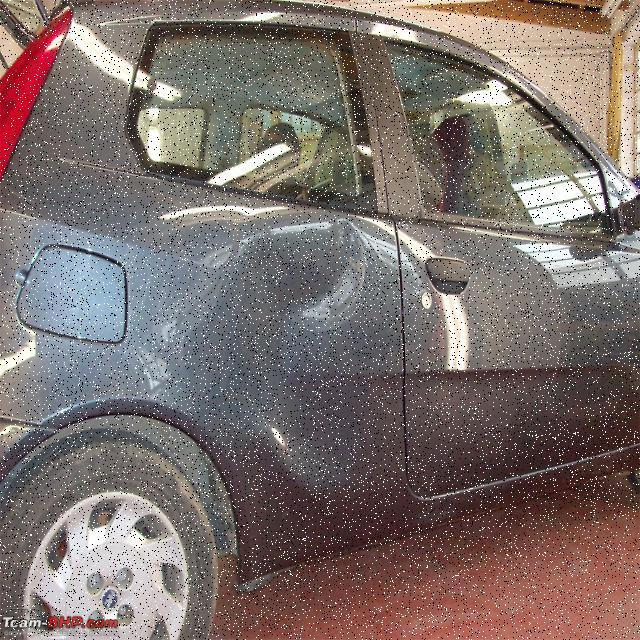quaterpanel-dent: (1, 208, 393, 466)
